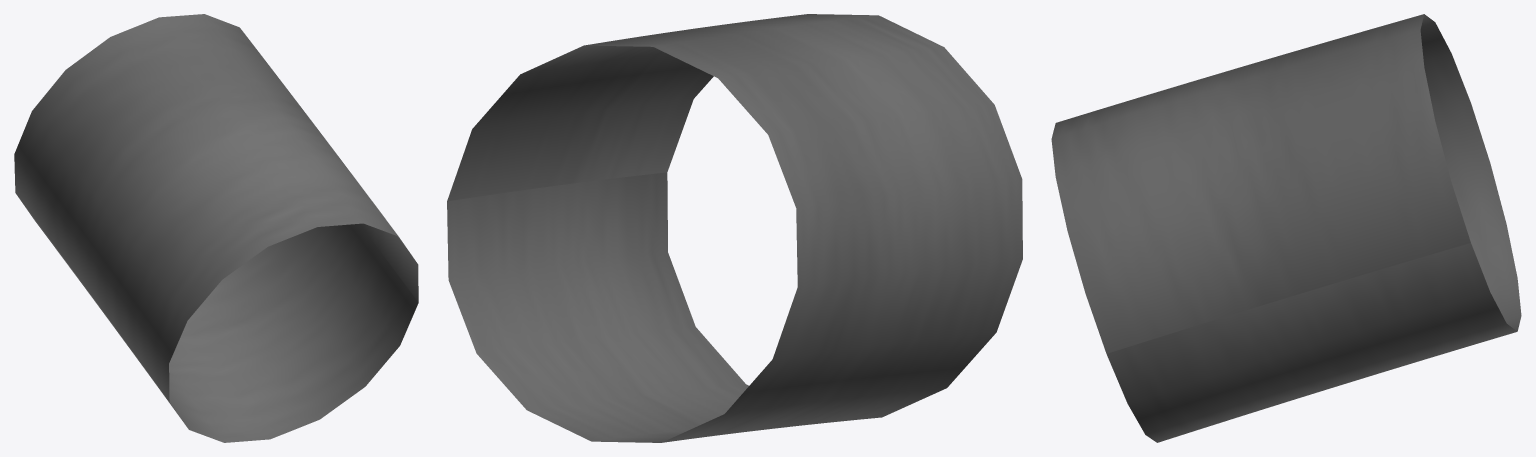
Rendered from mastarmcurve_10x2_c2.obj.
3 views of the same model, side by side, from view 1: azimuth 30°, elevation 25°; view 2: azimuth 150°, elevation 25°; view 3: azimuth 270°, elevation 25° (orthographic). The views are drawn at different scales.
Visible parts, largest first — view 1: mastarm_10x2_c2; view 2: mastarm_10x2_c2; view 3: mastarm_10x2_c2.
Part boxes in pixels (<box>): mastarm_10x2_c2: <box>14,14,418,442</box>; mastarm_10x2_c2: <box>447,14,1022,442</box>; mastarm_10x2_c2: <box>1051,14,1521,442</box>.
Size of the model in its own units: 0.6083 by 0.7931 by 0.8512.
